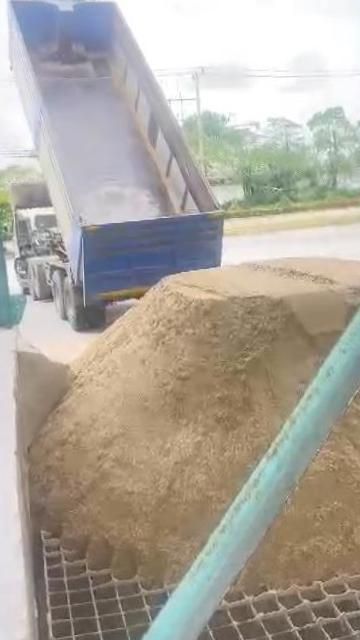sand: (31, 260, 360, 580), (243, 343, 360, 587), (15, 335, 70, 454)
